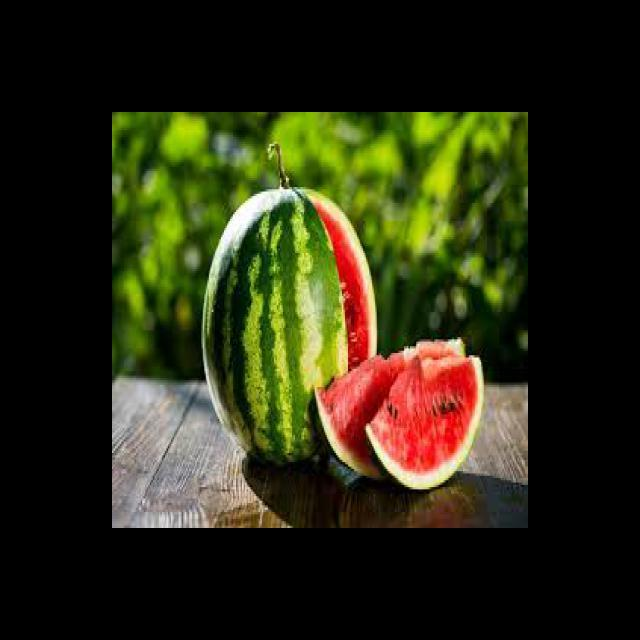watermelon: (200, 186, 378, 482), (310, 337, 466, 478), (364, 354, 486, 492)
